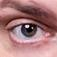eye: (21, 24, 38, 37)
